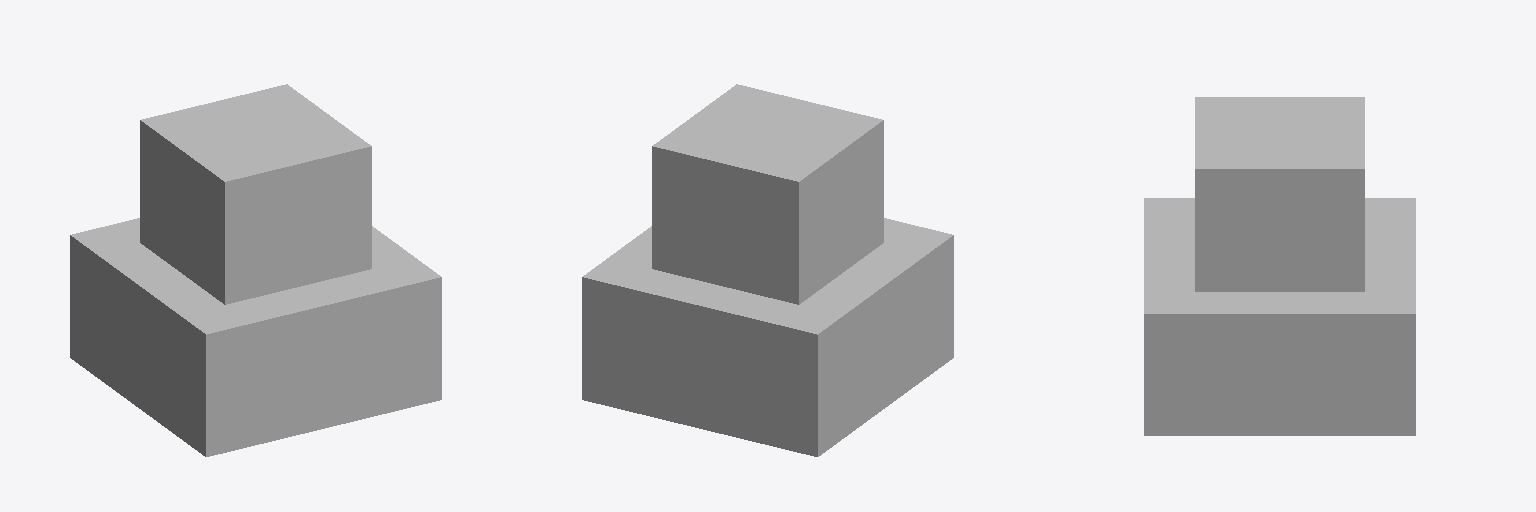
Rendered from ufo.obj.
3 views of the same model, side by side, from view 1: azimuth 30°, elevation 25°; view 2: azimuth 150°, elevation 25°; view 3: azimuth 270°, elevation 25° (orthographic).
Visible parts, largest first — view 1: Cube; view 2: Cube; view 3: Cube.
Boxes of the visible parts, <box> form: Cube: <box>70,84,441,456</box>; Cube: <box>582,84,953,456</box>; Cube: <box>1144,97,1415,435</box>.
Size of the model in its own units: 10 by 9.96 by 10.